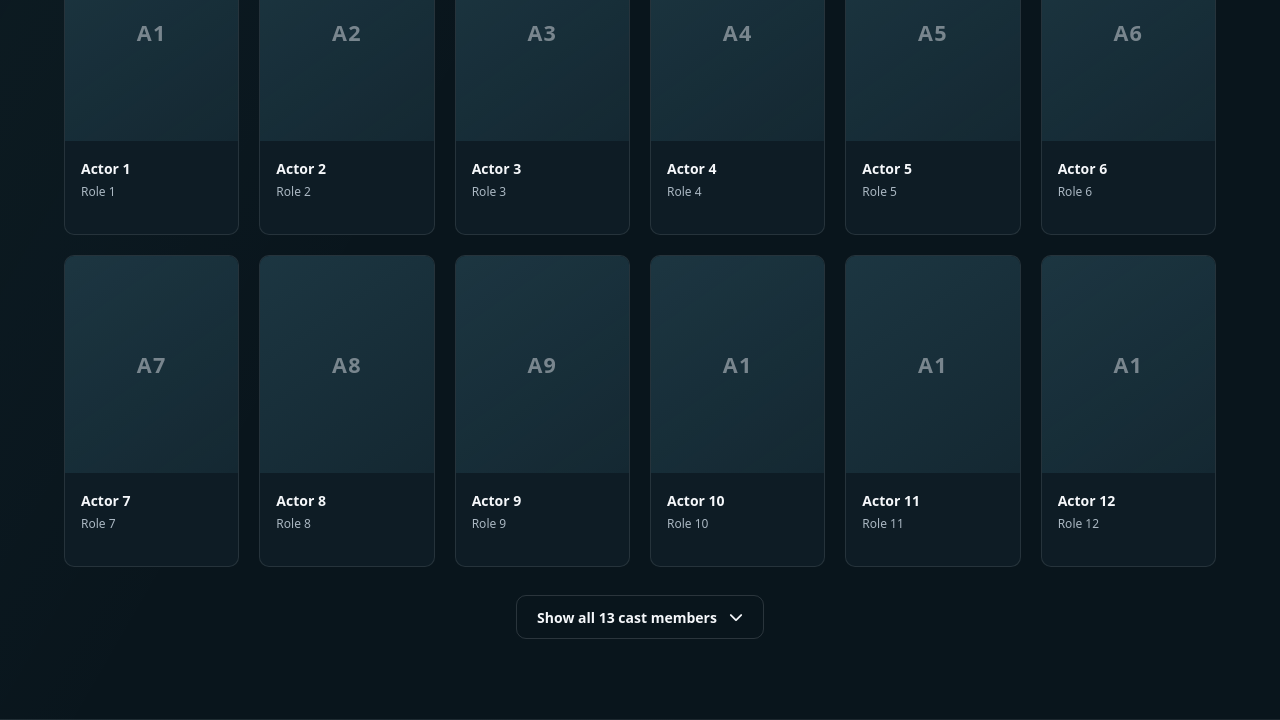
Test: MovieCredits › progressively reveals a long cast list
(page scrolled)
Expected: the text "Actor 13" is not shown
Click the button "Show all 13 cast members" at {"x": 640, "y": 617}, box [516, 595, 764, 639]
(page scrolled)
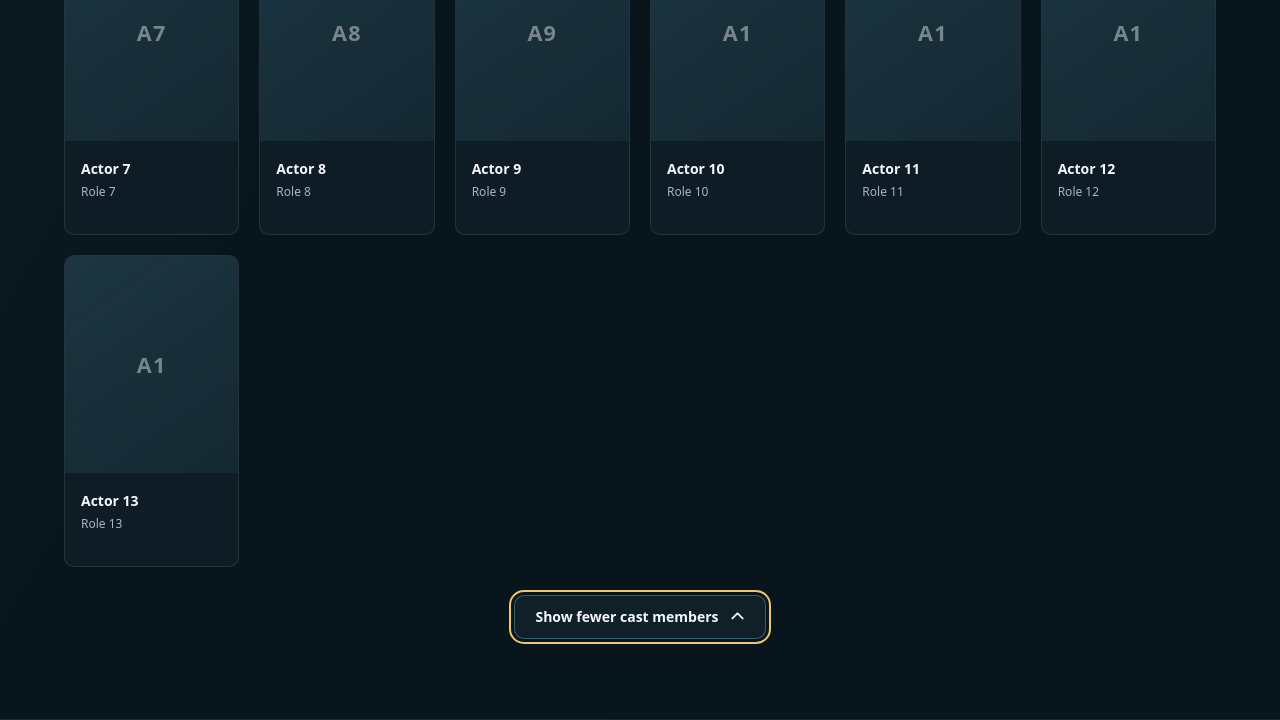
Now the text "Actor 13" is shown, box [81, 491, 139, 510]
